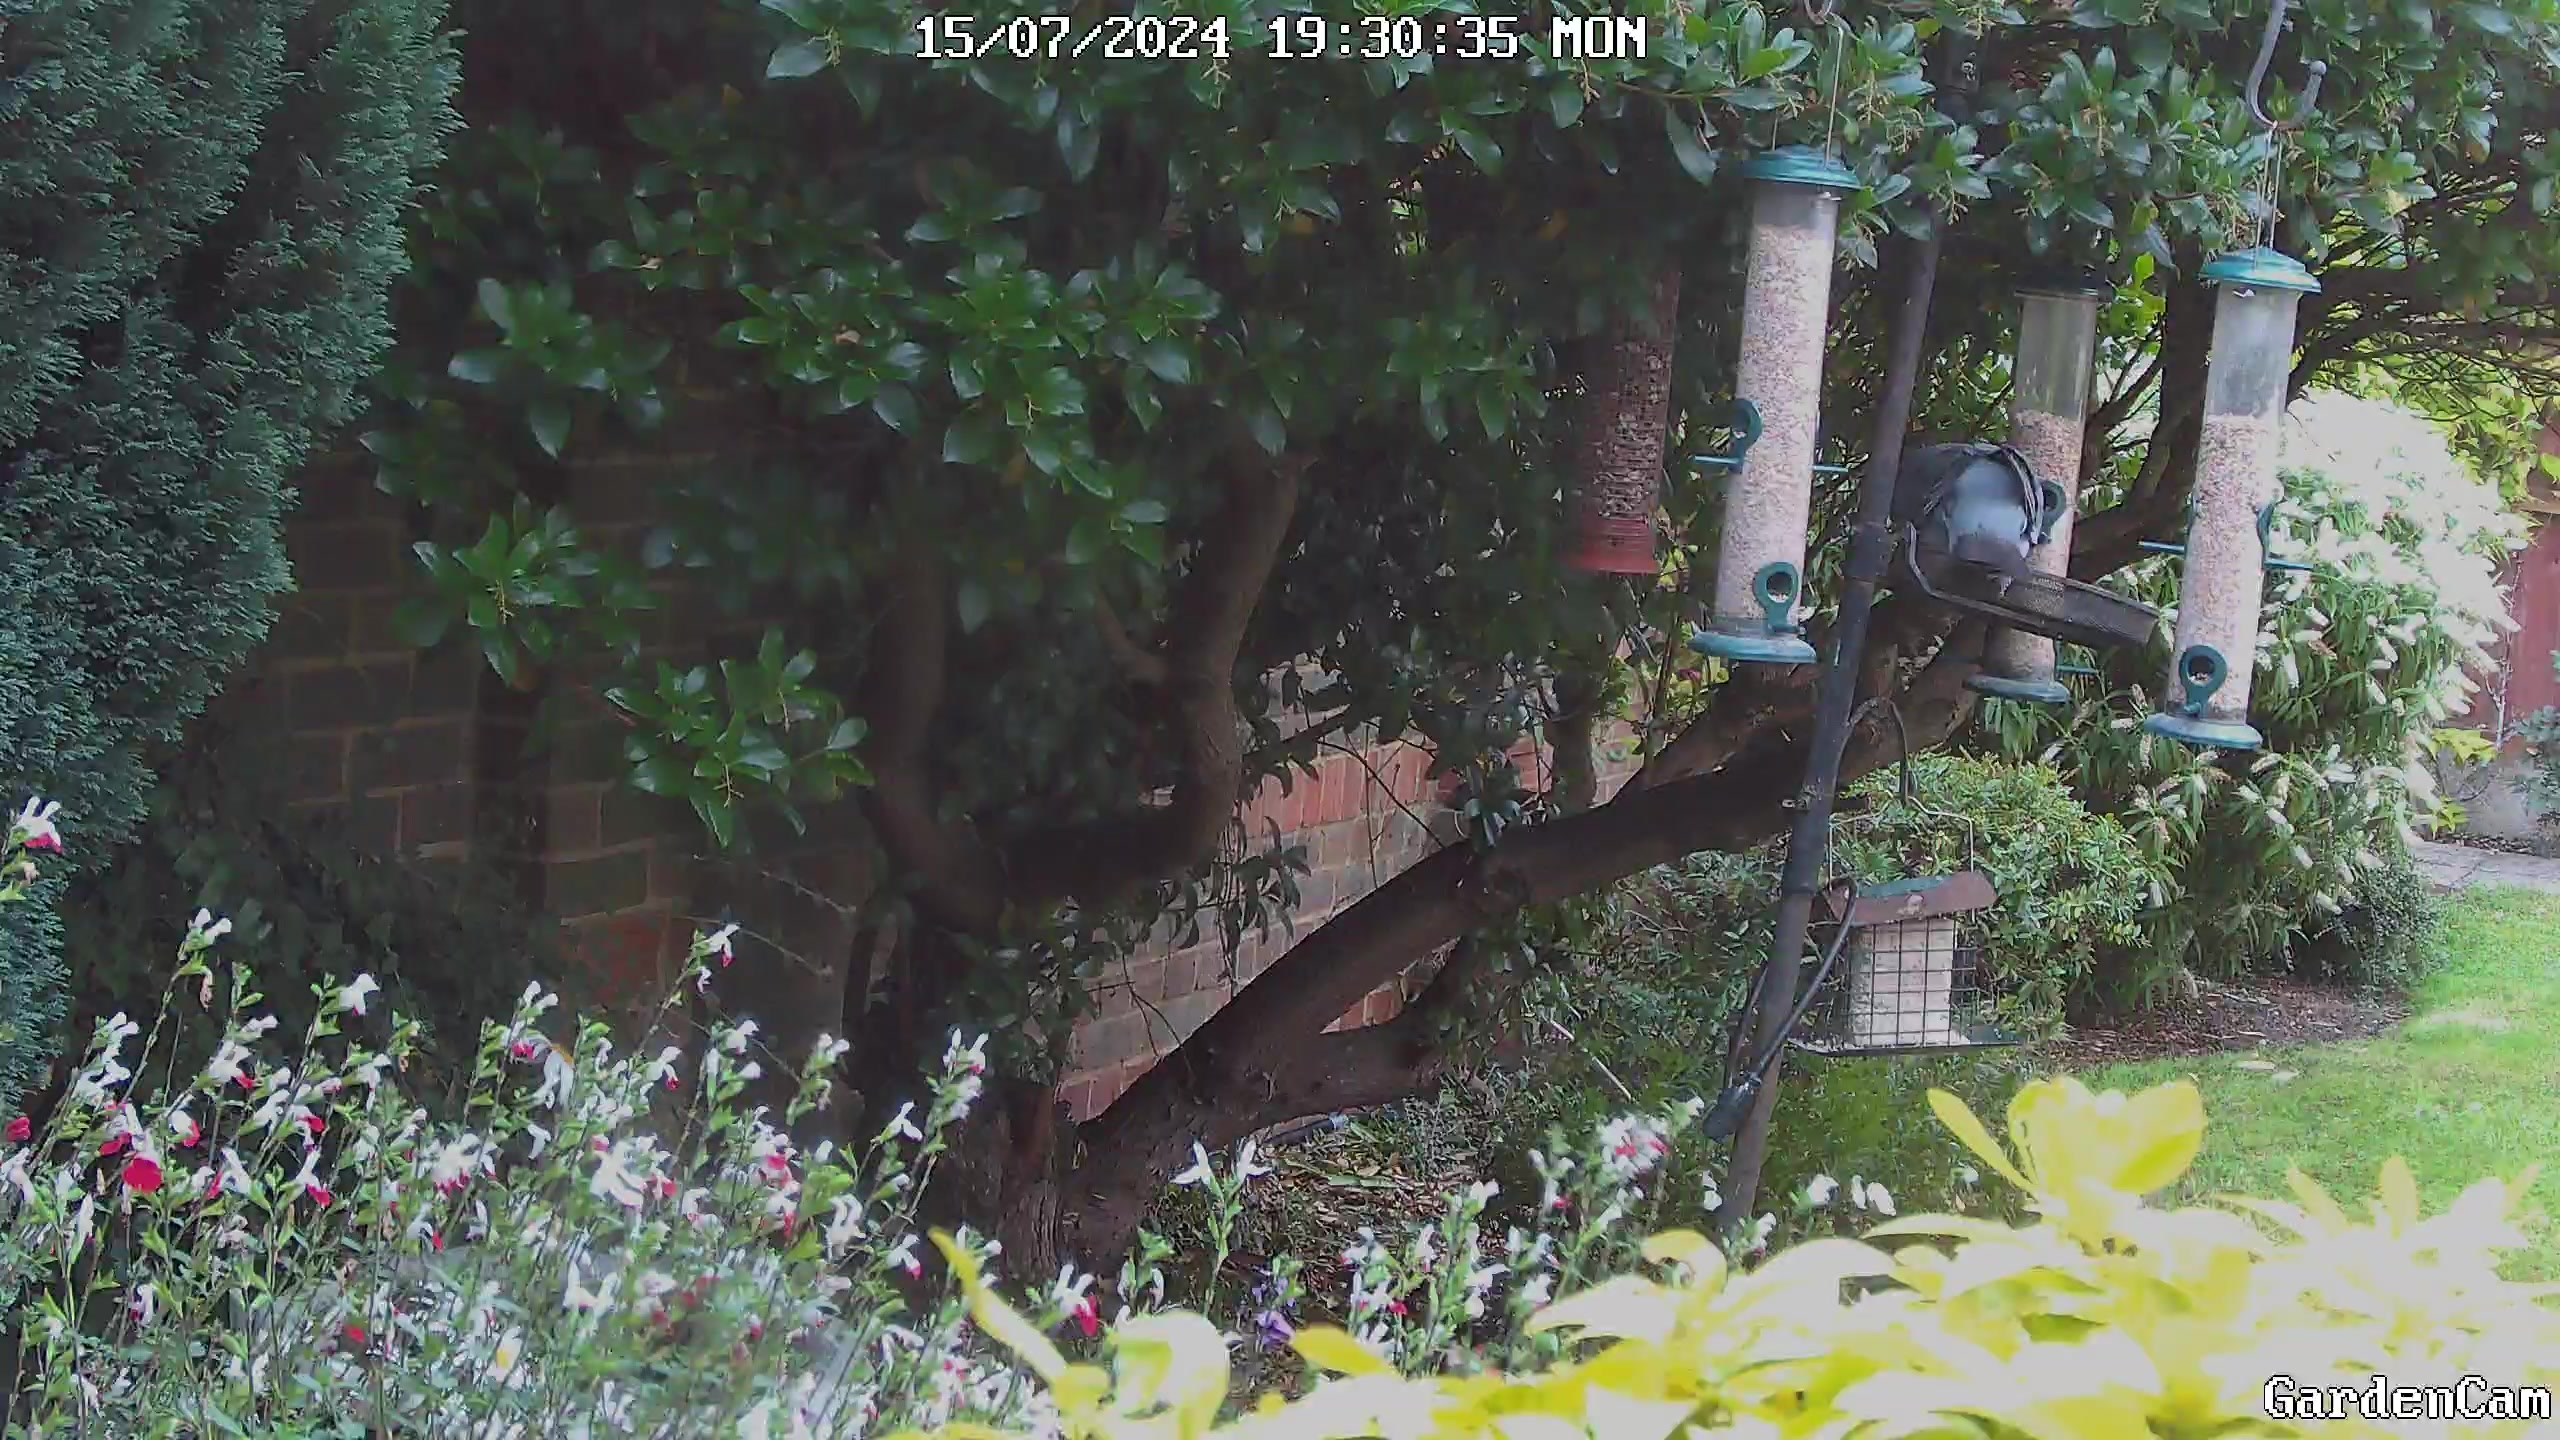Wood_Pigeon: (1869, 431, 2069, 600)
